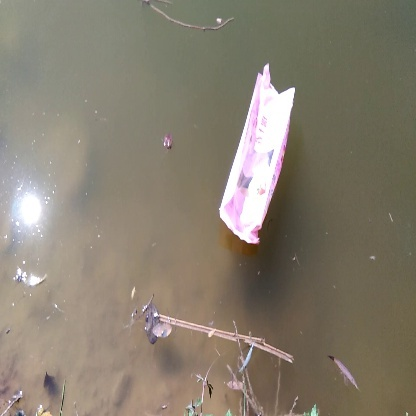plastic-bag: (218, 61, 307, 249)
